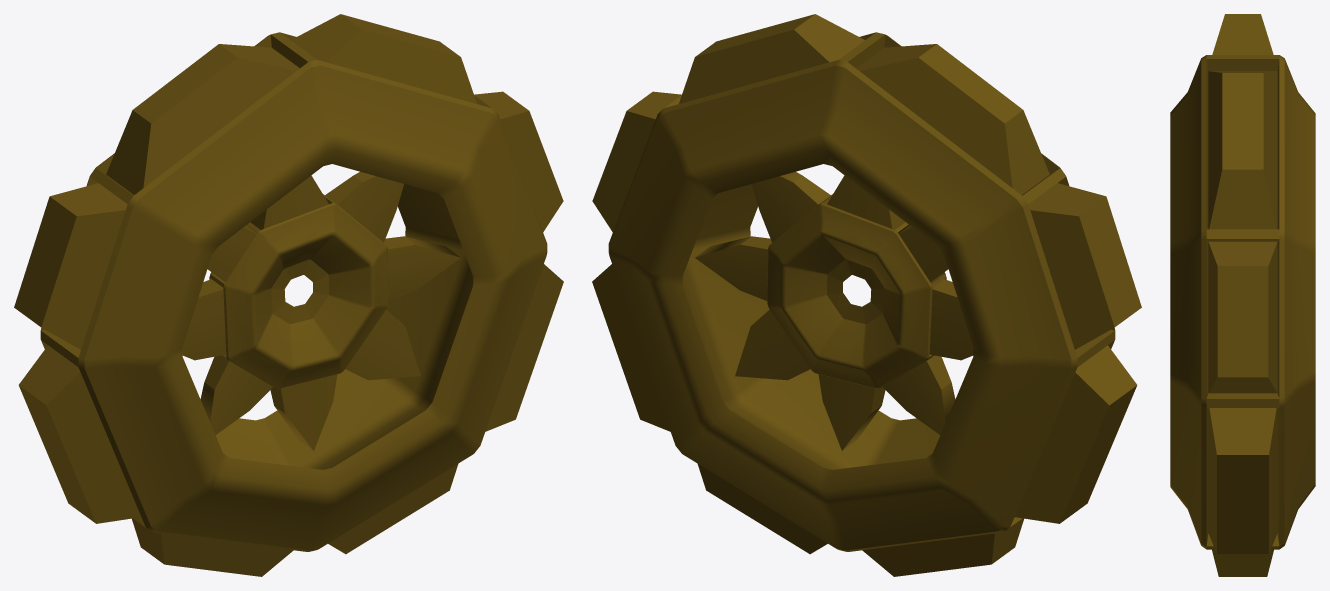
Rendered from pickupCog.fbx.
The picture shows the model from 3 angles, left to right: view 1: azimuth 30°, elevation 25°; view 2: azimuth 150°, elevation 25°; view 3: azimuth 270°, elevation 25°; orthographic projection. The views are drawn at different scales.
Visible parts, largest first — view 1: gearsimple; view 2: gearsimple; view 3: gearsimple.
Part boxes in pixels (x1=…): gearsimple: x1=14, y1=14, x2=563, y2=576; gearsimple: x1=592, y1=14, x2=1141, y2=576; gearsimple: x1=1170, y1=14, x2=1315, y2=576.
Bounding box in the file's own units: 37.68 × 36.01 × 9.42.
